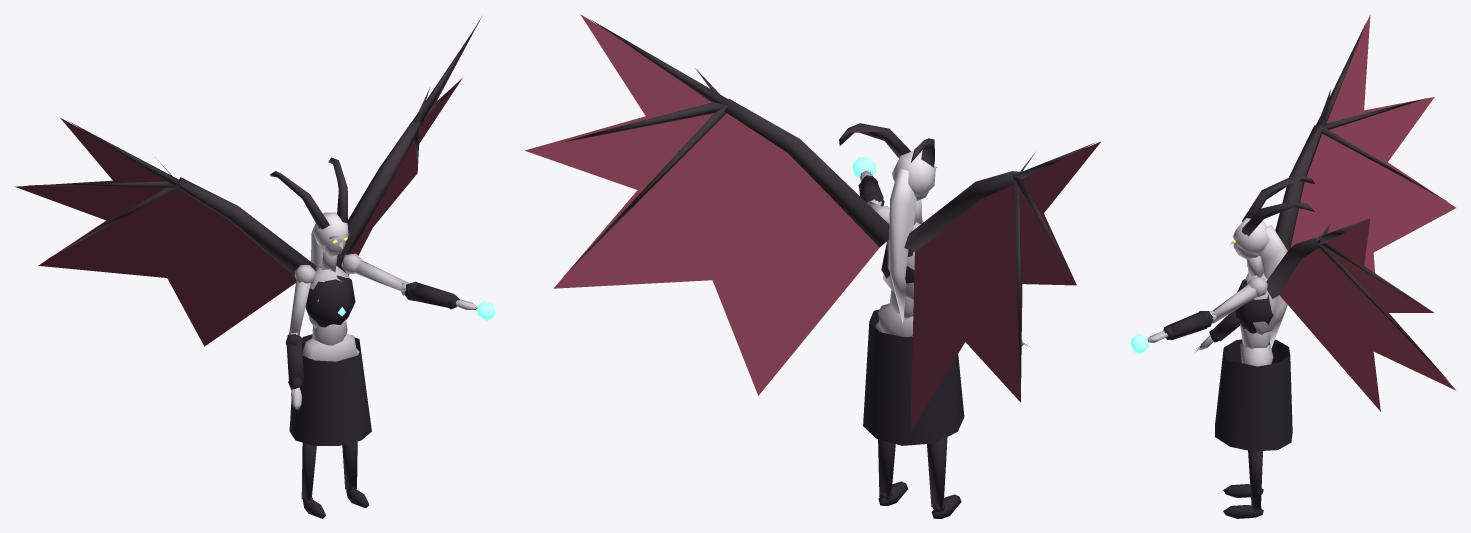
Rendered from succubus_lod.glb.
3 renders of one model, left to right at view 1: azimuth 30°, elevation 25°; view 2: azimuth 150°, elevation 25°; view 3: azimuth 270°, elevation 25°, orthographic. The views are drawn at different scales.
Parts seen in each view (by area): view 1: torso, pelvis, head, upperarm_R, upperarm_L, forearm_L, forearm_R, shin_R, shin_L; view 2: torso, pelvis, head, shin_R, shin_L; view 3: torso, pelvis, head, upperarm_L, forearm_L, shin_L, forearm_R, hand_L, foot_L.
Boxes of the visible parts, x1=… form: torso: x1=15, y1=17, x2=481, y2=346; pelvis: x1=289, y1=334, x2=371, y2=445; head: x1=270, y1=157, x2=349, y2=271; upperarm_R: x1=289, y1=265, x2=315, y2=335; upperarm_L: x1=341, y1=253, x2=408, y2=295; forearm_L: x1=401, y1=281, x2=459, y2=309; forearm_R: x1=285, y1=332, x2=304, y2=389; shin_R: x1=301, y1=443, x2=316, y2=502; shin_L: x1=342, y1=441, x2=357, y2=492; torso: x1=525, y1=14, x2=1101, y2=432; pelvis: x1=863, y1=303, x2=964, y2=445; head: x1=839, y1=123, x2=937, y2=323; shin_R: x1=927, y1=437, x2=947, y2=511; shin_L: x1=878, y1=439, x2=895, y2=500; torso: x1=1235, y1=15, x2=1455, y2=411; pelvis: x1=1215, y1=339, x2=1292, y2=451; head: x1=1229, y1=174, x2=1314, y2=349; upperarm_L: x1=1209, y1=276, x2=1267, y2=323; forearm_L: x1=1163, y1=311, x2=1214, y2=340; shin_L: x1=1248, y1=450, x2=1262, y2=511; forearm_R: x1=1209, y1=310, x2=1240, y2=342; hand_L: x1=1130, y1=330, x2=1168, y2=353; foot_L: x1=1223, y1=505, x2=1263, y2=518.
Size of the model in its own units: 3.15 by 2.66 by 2.01.
